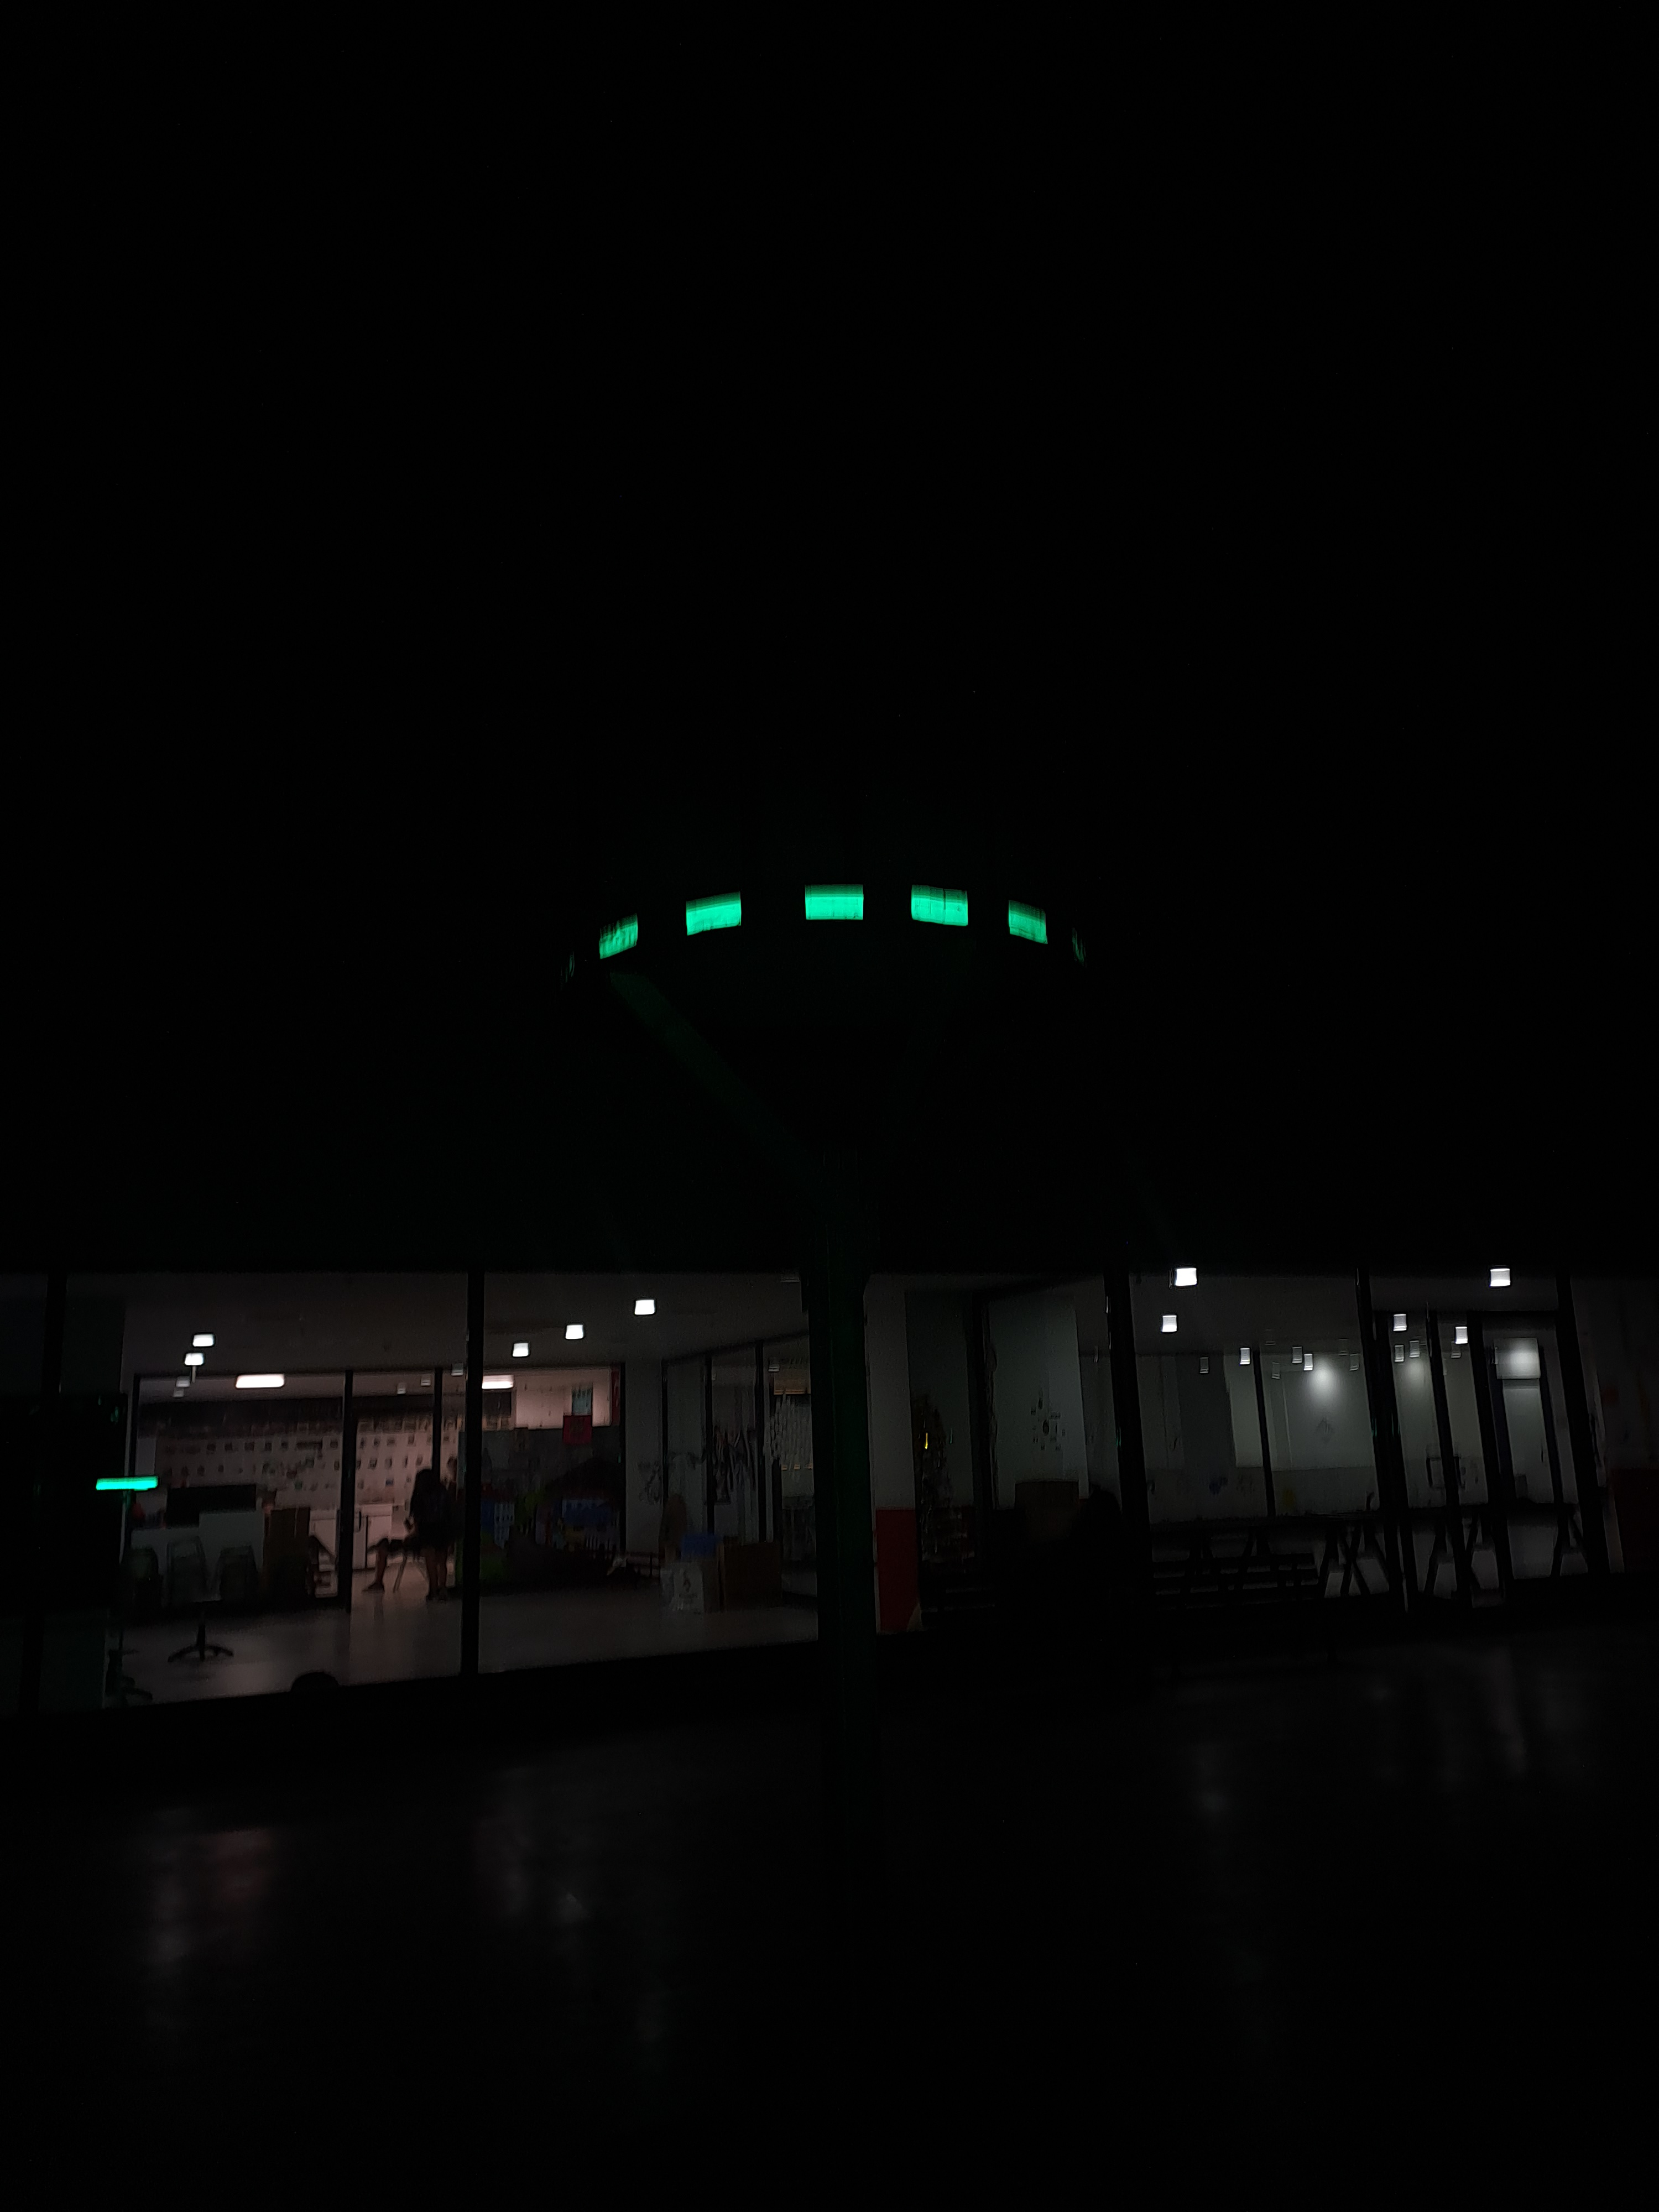hoop: (592, 885, 1061, 954)
